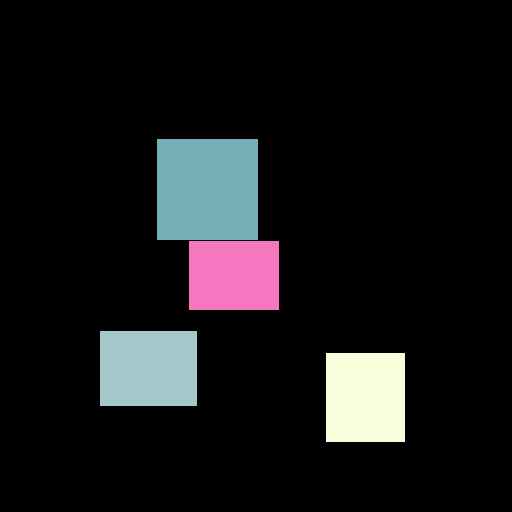rectangle: (100, 331, 196, 405), (326, 353, 404, 441), (189, 241, 278, 309)
square: (157, 139, 257, 239)
